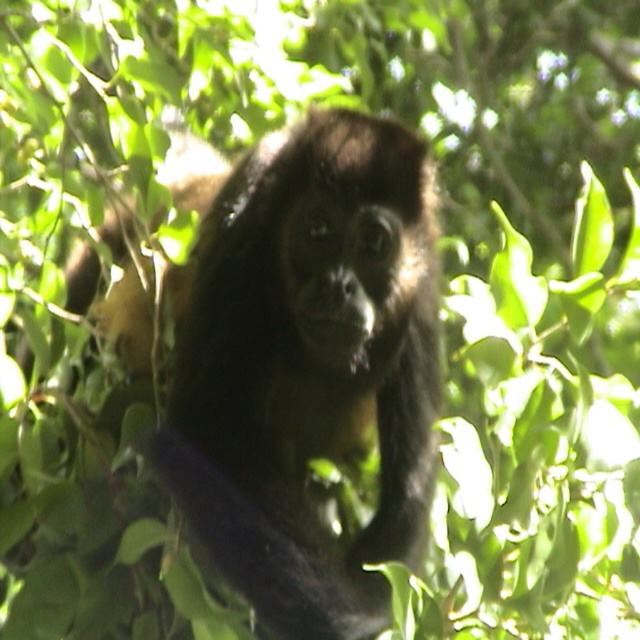Monkey: (59, 100, 451, 640)
